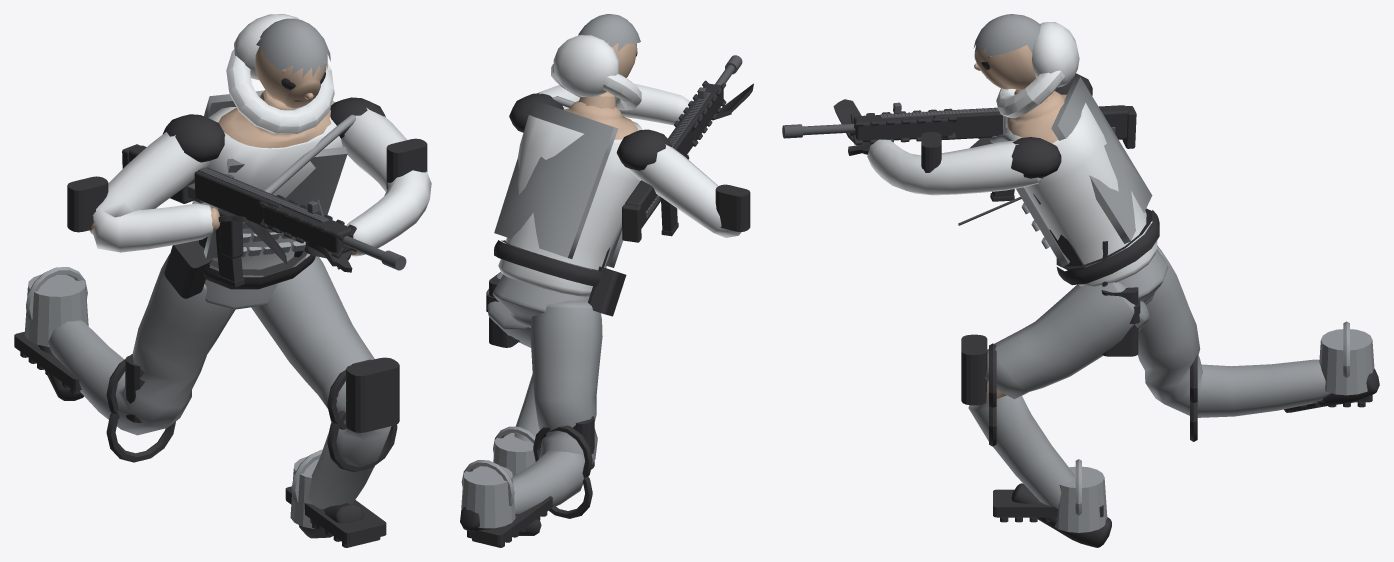
Rendered from arctic-station-fps-kit-defender-medium-advancing-8f1d2270__28518.glb.
The picture shows the model from 3 angles, left to right: view 1: azimuth 30°, elevation 25°; view 2: azimuth 150°, elevation 25°; view 3: azimuth 270°, elevation 25°; orthographic projection. The views are drawn at different scales.
Visible parts, largest first — view 1: defender-medium-advancing; view 2: defender-medium-advancing; view 3: defender-medium-advancing.
Boxes of the visible parts, x1,y1,x2,y2 form: defender-medium-advancing: (14, 14, 431, 547); defender-medium-advancing: (460, 14, 753, 547); defender-medium-advancing: (782, 14, 1379, 547).
Size of the model in its own units: 0.8172 by 1.5 by 1.62.
